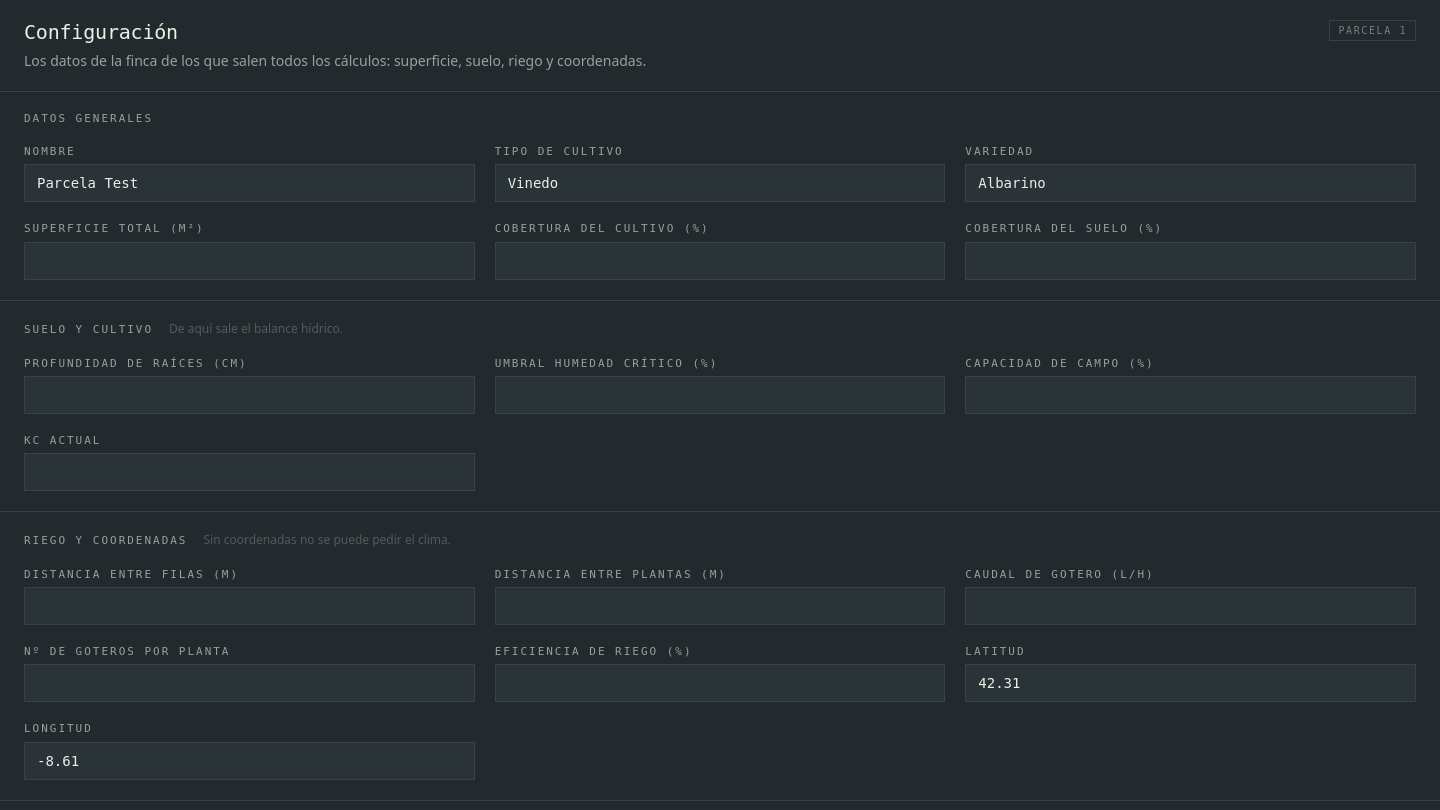
Test case: tras guardar, el formulario refleja lo que devuelve el backend
Clear the number field labelled "Kc actual": (249, 472) [24,453,475,491]
(page scrolled)
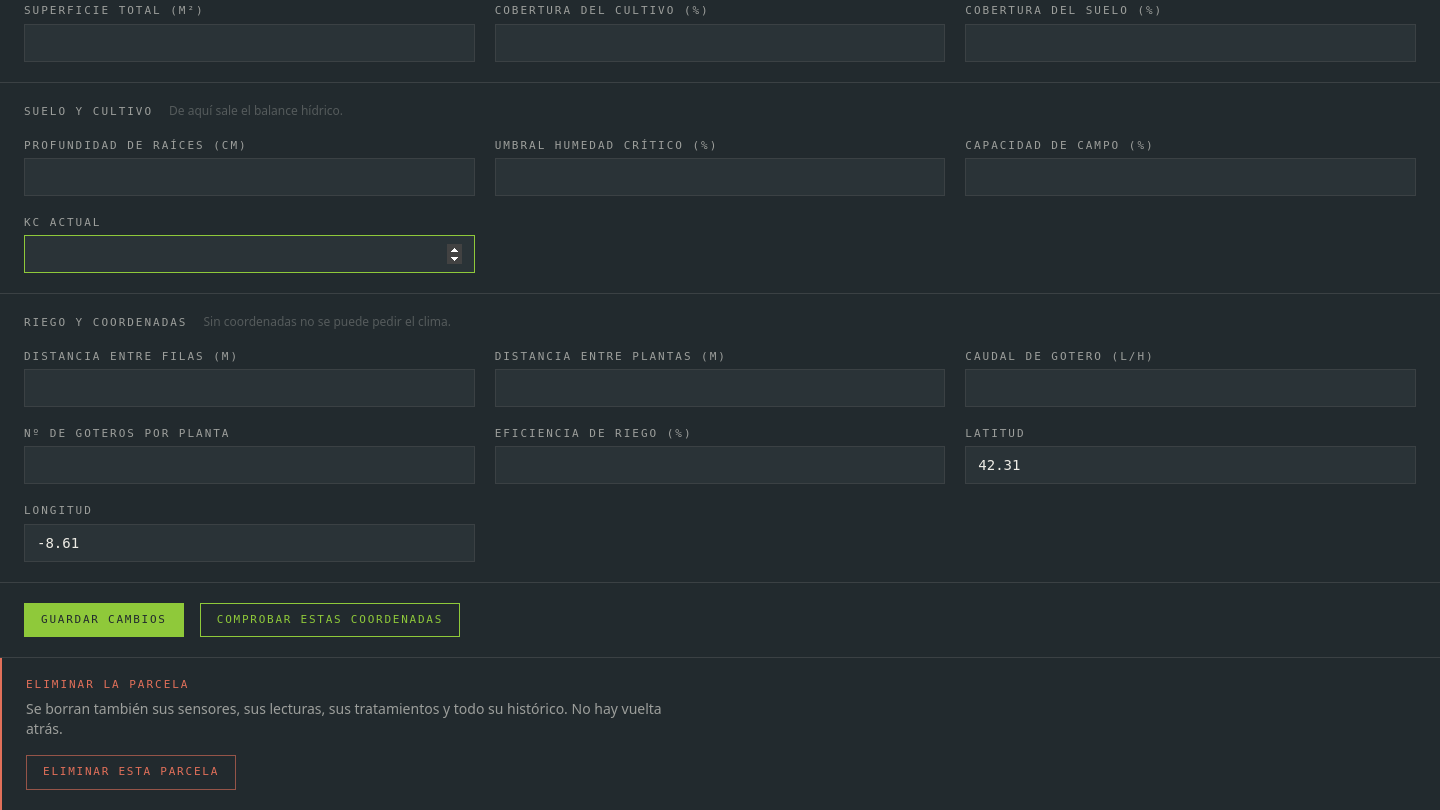
Click the button "Guardar cambios": (104, 620) [24,602,184,637]
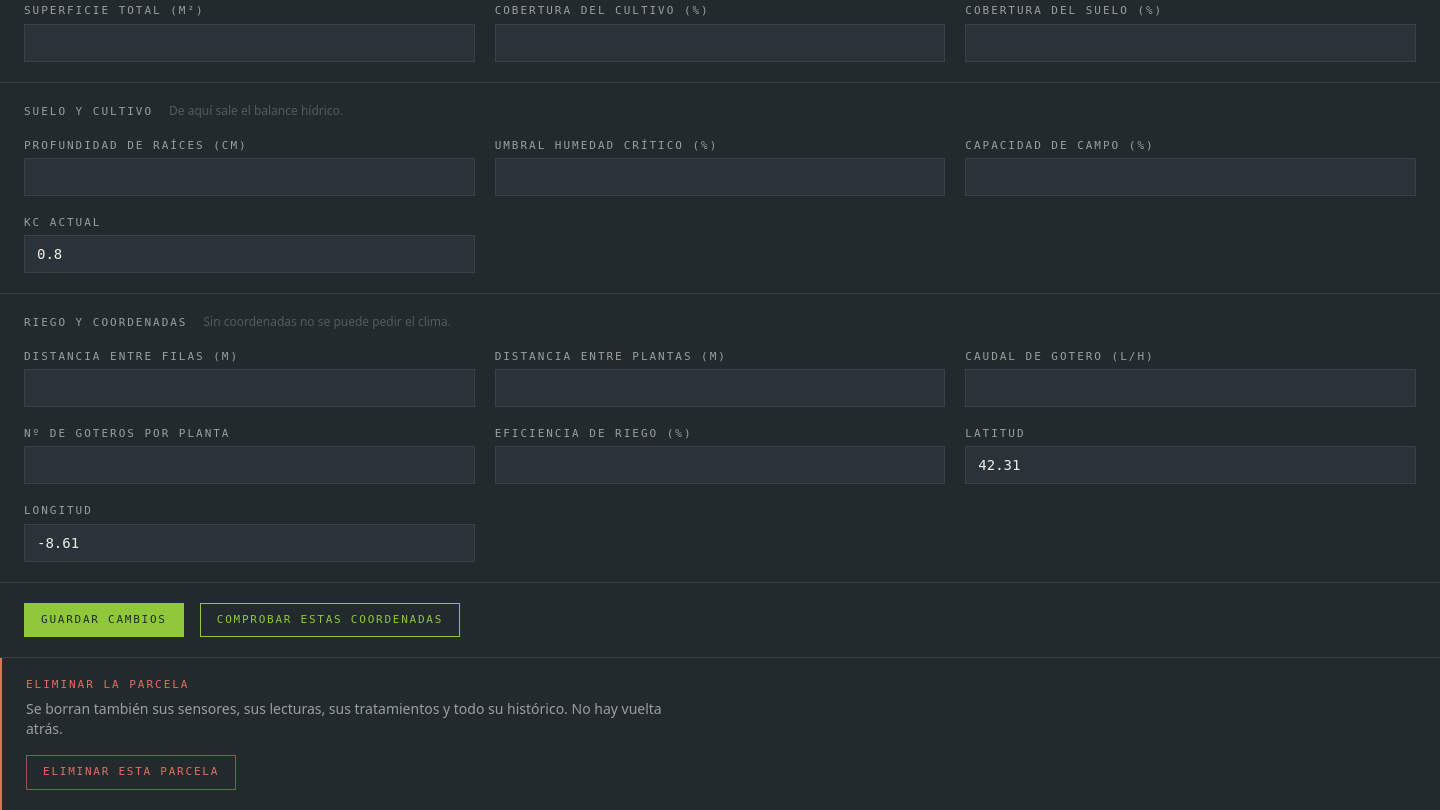
Expected: the number field labelled "Kc actual" holds "0.8", [24,235,475,273]
